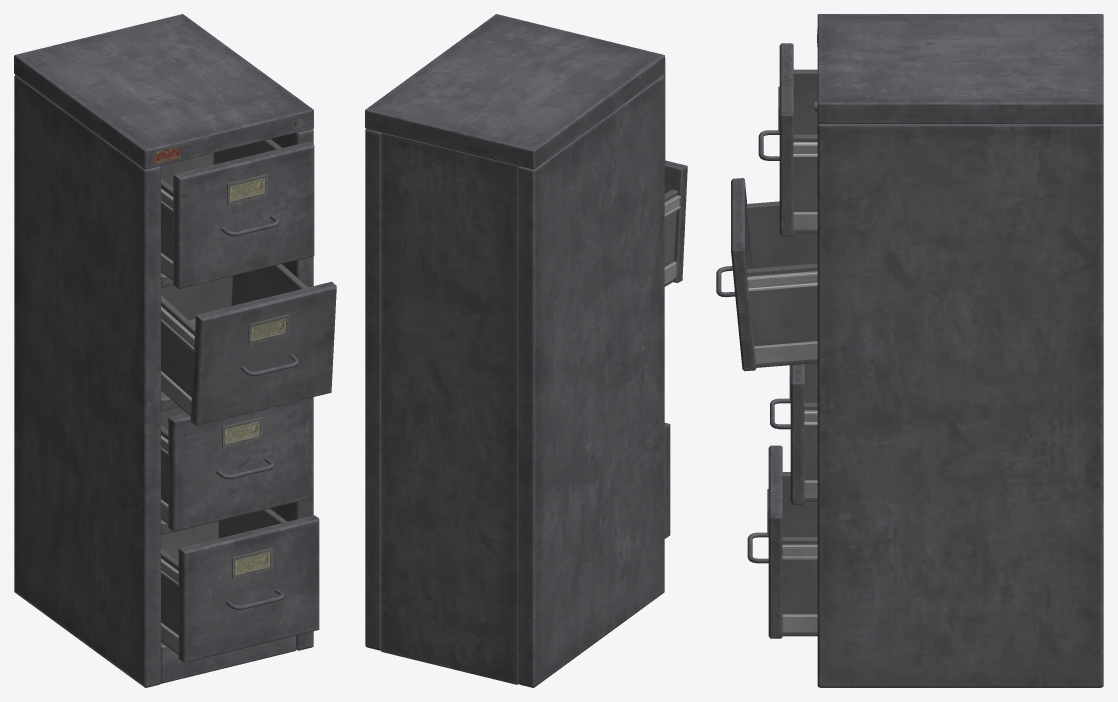
Rendered from CabinetBook-transformed.glb.
3 renders of one model, left to right at view 1: azimuth 30°, elevation 25°; view 2: azimuth 150°, elevation 25°; view 3: azimuth 270°, elevation 25°, orthographic. The views are drawn at different scales.
Visible parts, largest first — view 1: File Cabinets-Freepoly.org; view 2: File Cabinets-Freepoly.org; view 3: File Cabinets-Freepoly.org.
Part boxes in pixels (x1,y1,x2,y2): File Cabinets-Freepoly.org: (14, 14, 336, 687); File Cabinets-Freepoly.org: (365, 14, 687, 687); File Cabinets-Freepoly.org: (716, 14, 1103, 687).
Size of the model in its own units: 0.4489 by 1.36 by 0.816.
Materials: 1 (1 with a texture image).
